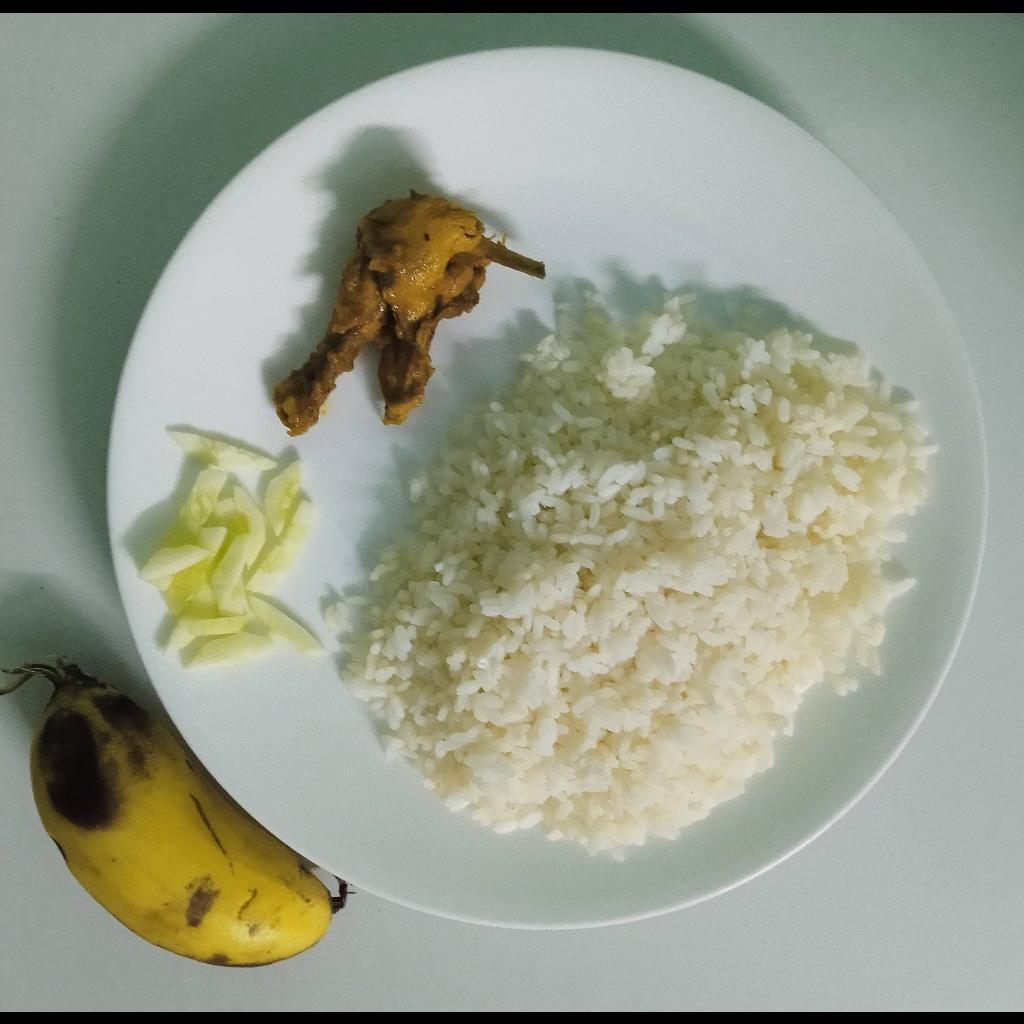banana: (27, 663, 338, 973)
chicken: (274, 192, 545, 435)
cucumber: (134, 428, 334, 668)
rice: (328, 293, 936, 854)
